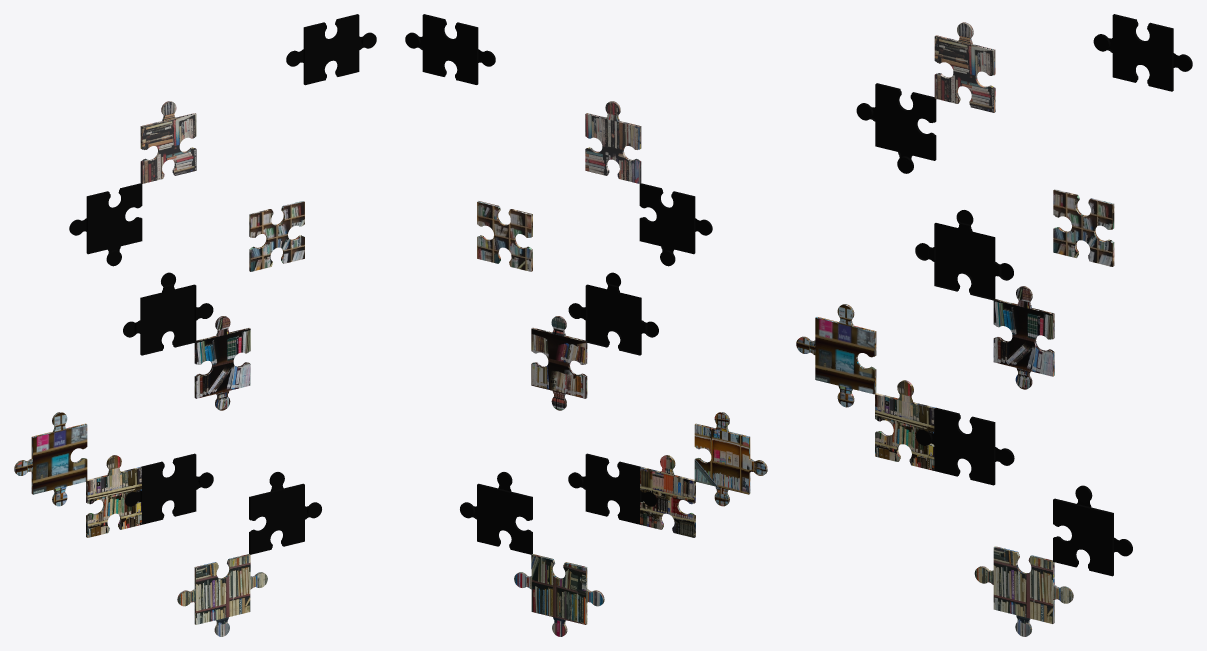
File: puzzle.glb
The picture shows the model from 3 angles, left to right: view 1: azimuth 30°, elevation 25°; view 2: azimuth 150°, elevation 25°; view 3: azimuth 330°, elevation 25°; orthographic projection. The views are drawn at different scales.
Parts seen in each view (by area): view 1: Cube.002, Cube.001, Cube.069, Cylinder.001, Cylinder.003, Cylinder.064, Cylinder.047, Cube.003, Cylinder.002, Cylinder.022, Cube.023; view 2: Cube.002, Cube.001, Cube.069, Cylinder.001, Cylinder.003, Cylinder.064, Cylinder.047, Cube.003, Cylinder.002, Cylinder.022, Cube.023; view 3: Cube.002, Cube.069, Cube.001, Cylinder.064, Cylinder.003, Cylinder.001, Cube.003, Cylinder.047, Cylinder.002, Cylinder.022, Cube.023.
Boxes of the visible parts, <box> form: Cube.002: <box>14,412,87,506</box>; Cube.001: <box>177,554,267,636</box>; Cube.069: <box>123,272,213,355</box>; Cylinder.001: <box>69,183,142,266</box>; Cylinder.003: <box>286,14,376,85</box>; Cylinder.064: <box>194,316,250,410</box>; Cylinder.047: <box>249,472,321,554</box>; Cube.003: <box>125,453,213,524</box>; Cylinder.002: <box>140,101,196,183</box>; Cylinder.022: <box>86,455,141,537</box>; Cube.023: <box>249,201,304,271</box>; Cube.002: <box>694,412,767,506</box>; Cube.001: <box>514,554,604,636</box>; Cube.069: <box>568,272,658,355</box>; Cylinder.001: <box>639,183,712,266</box>; Cylinder.003: <box>405,14,495,84</box>; Cylinder.064: <box>531,316,587,410</box>; Cylinder.047: <box>460,472,532,554</box>; Cube.003: <box>568,453,656,524</box>; Cylinder.002: <box>585,101,641,183</box>; Cylinder.022: <box>640,455,695,537</box>; Cube.023: <box>477,201,532,271</box>; Cube.002: <box>796,304,876,407</box>; Cube.069: <box>915,210,1013,300</box>; Cube.001: <box>974,546,1073,636</box>; Cylinder.064: <box>993,286,1054,389</box>; Cylinder.003: <box>1093,14,1192,91</box>; Cylinder.001: <box>856,83,936,173</box>; Cube.003: <box>916,407,1014,485</box>; Cylinder.047: <box>1053,485,1132,576</box>; Cylinder.002: <box>934,22,995,112</box>; Cylinder.022: <box>875,380,935,470</box>; Cube.023: <box>1053,189,1114,266</box>.
Bounding box in the file's own units: 5.4 × 8.41 × 0.0368.
11 materials, 6 textured.
